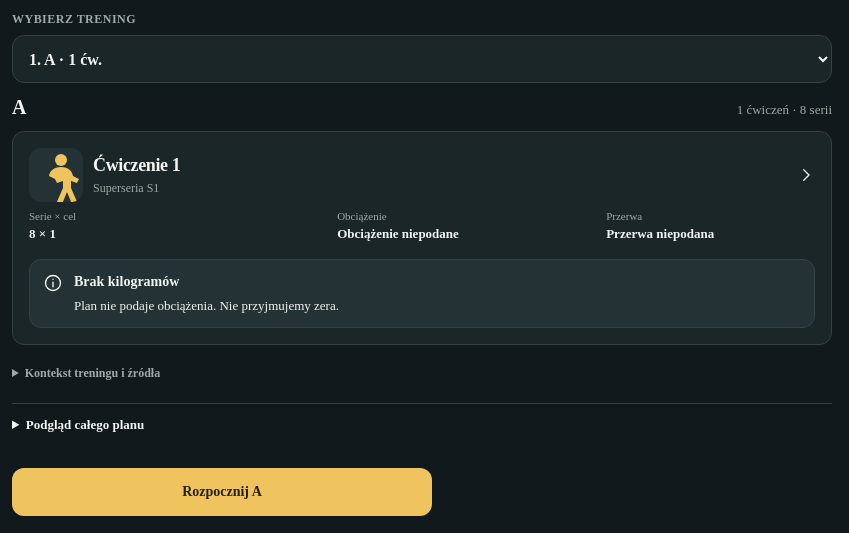
it: odmowa pamięci przeglądarki nie blokuje ręcznego wyboru
Select "2. A · 1 ćw." in the dropdown labelled "Wybierz trening": (422, 59) [12,35,832,83]
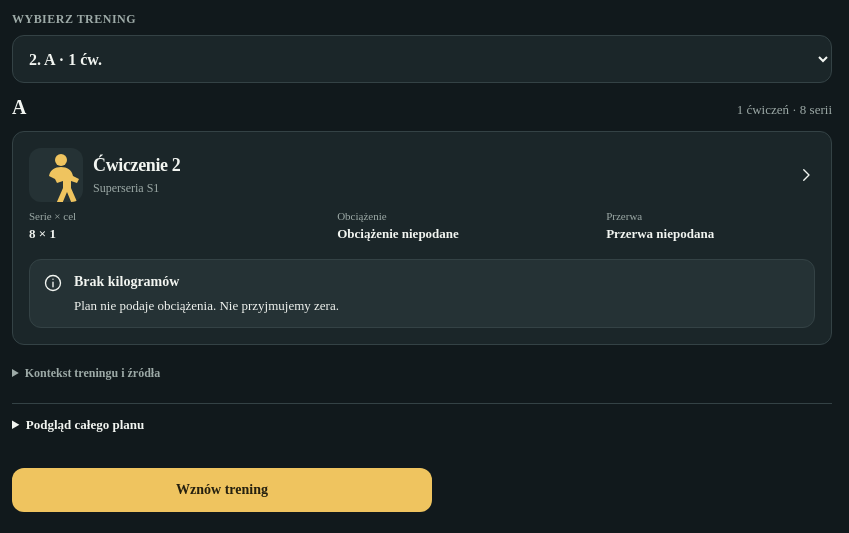
Expected: the heading "Ćwiczenie 2" is shown, [93,155,180,175]
